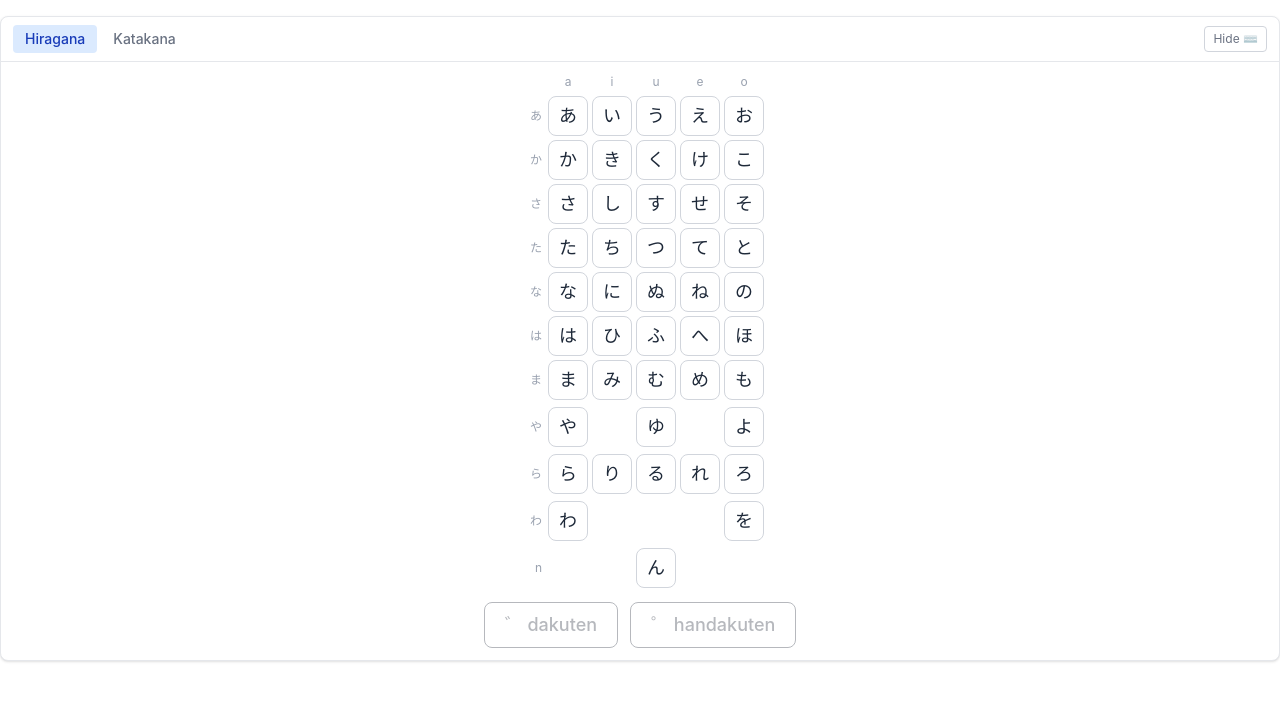
it: OnScreenKeyboard › shows pending character preview
Click the button "か" at (568, 160), box [548, 140, 588, 180]
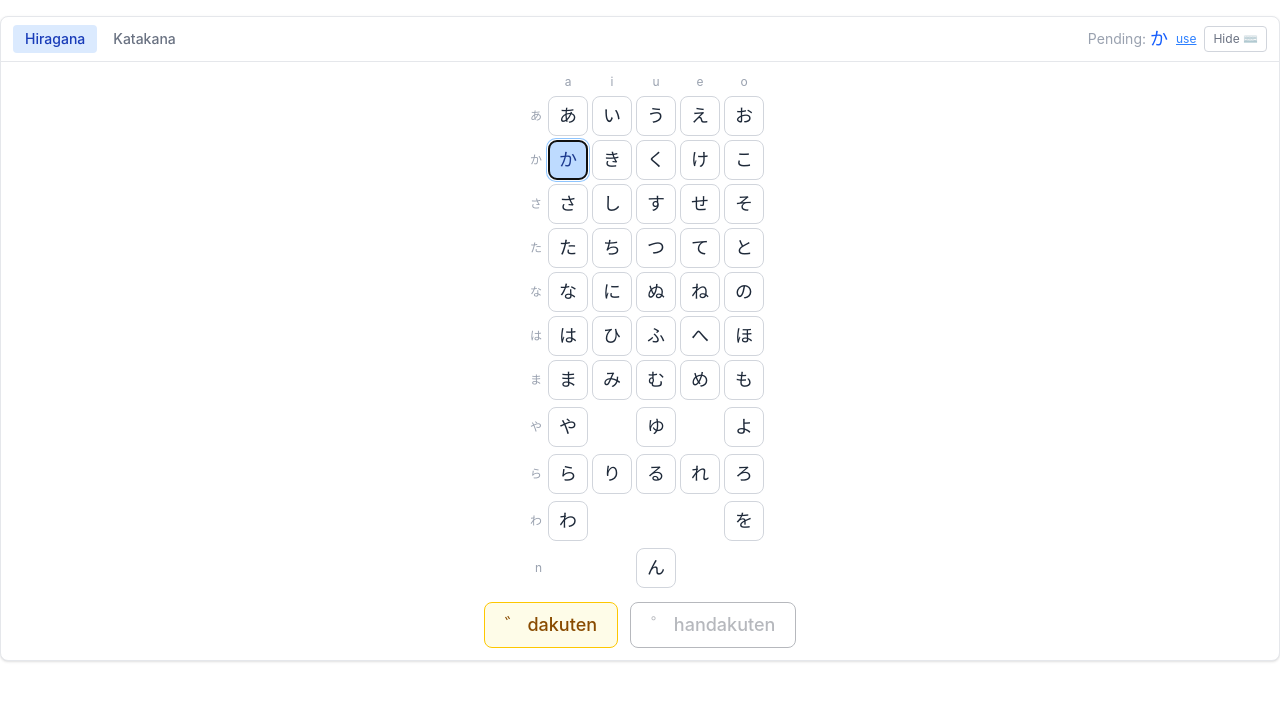
expect the text "Pending:" is shown: met, box [1088, 29, 1146, 49]
